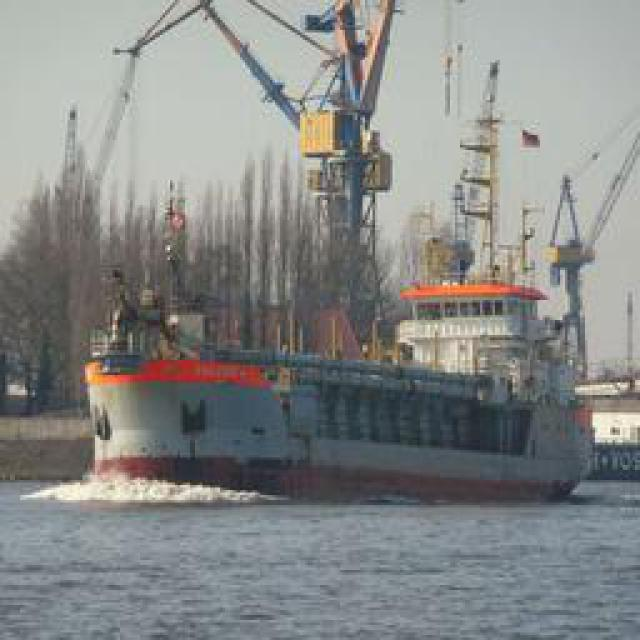Ship: (79, 305, 299, 490)
